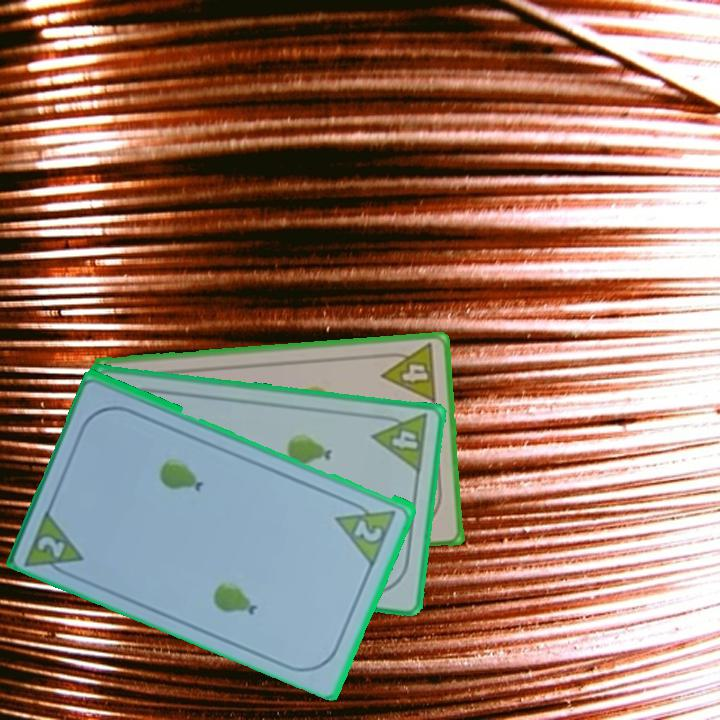2p: (34, 531, 69, 562), (351, 515, 386, 545)
4p: (377, 340, 440, 406), (369, 410, 431, 476)
